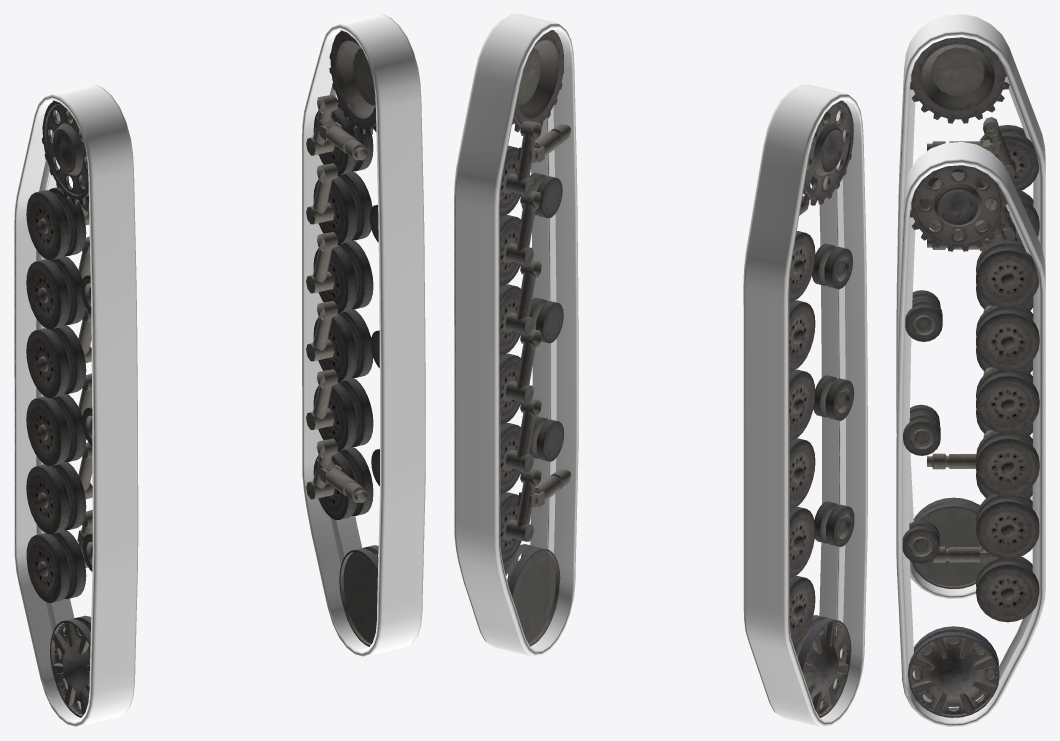
File: Chassis.glb
The picture shows the model from 3 angles, left to right: view 1: azimuth 30°, elevation 25°; view 2: azimuth 150°, elevation 25°; view 3: azimuth 270°, elevation 25°; orthographic projection. The views are drawn at different scales.
Parts seen in each view (by area): view 1: set_1_group_0, set_0_group_0, set_2_group_0, set_3_group_0; view 2: set_1_group_0, set_0_group_0, set_3_group_0, set_2_group_0; view 3: set_3_group_0, set_0_group_0, set_2_group_0, set_1_group_0.
Part boxes in pixels (<box>): set_1_group_0: <box>14,84,138,726</box>; set_0_group_0: <box>302,14,425,656</box>; set_2_group_0: <box>26,100,92,717</box>; set_3_group_0: <box>306,30,379,646</box>; set_1_group_0: <box>743,84,867,726</box>; set_0_group_0: <box>454,14,578,656</box>; set_3_group_0: <box>500,30,571,646</box>; set_2_group_0: <box>789,100,854,717</box>; set_3_group_0: <box>902,165,1039,717</box>; set_0_group_0: <box>896,142,1045,726</box>; set_2_group_0: <box>910,37,1039,588</box>; set_1_group_0: <box>896,14,1045,598</box>.
Size of the model in its own units: 2.85 by 5.13 by 1.23.
4 materials, 2 textured.
